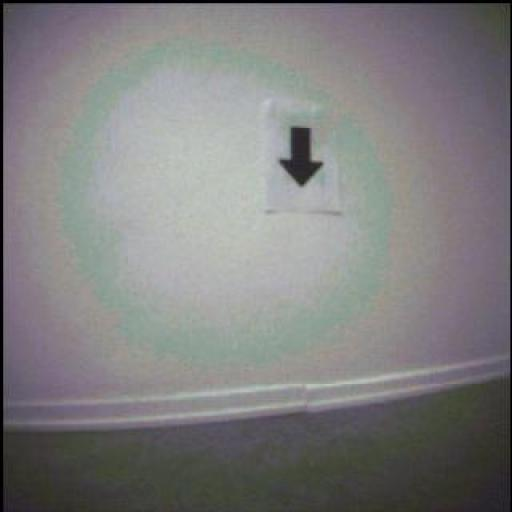Arrow: (281, 128, 324, 187)
